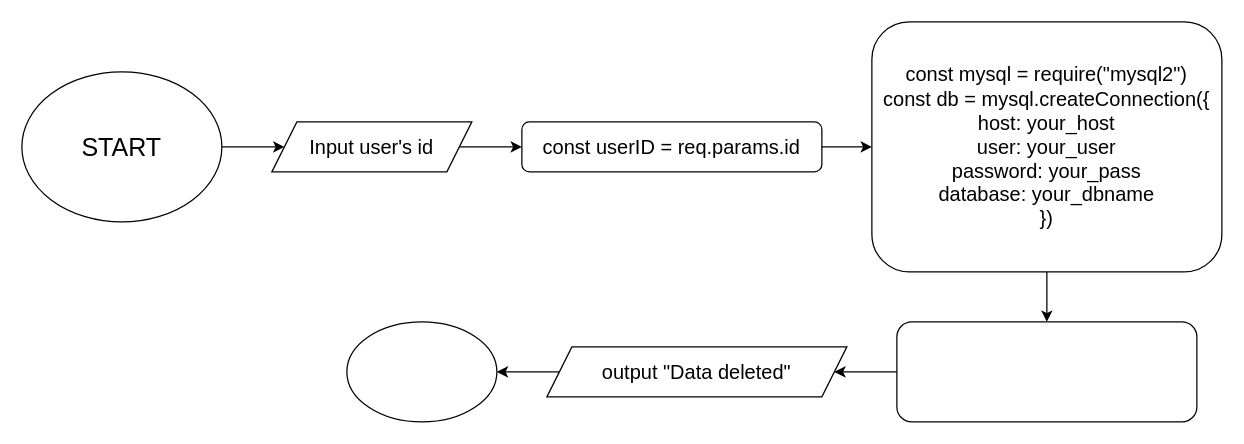
This 1244x444 diagram has some shape labels left out. The shapes that lost their labels are listed below. From the top down, each one's box as (x1, y1, x2, y2) in pixels, then its label:
(346, 321, 497, 422): END
(896, 321, 1197, 422): db.query("DELETE FROM user_data WHERE userID = ?", userID)
